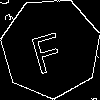F: (25, 23, 67, 75)
